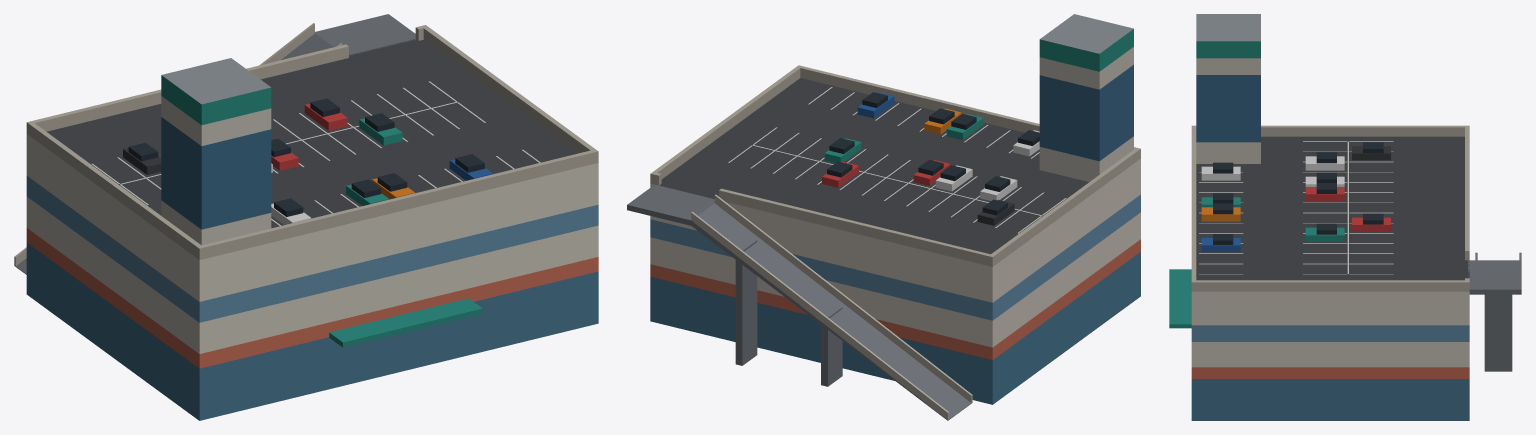
File: building_4.glb
The picture shows the model from 3 angles, left to right: view 1: azimuth 30°, elevation 25°; view 2: azimuth 150°, elevation 25°; view 3: azimuth 270°, elevation 25°; orthographic projection. The views are drawn at different scales.
Visible parts, largest first — view 1: Building; view 2: Building; view 3: Building.
Boxes of the visible parts, x1,y1,x2,y2 form: Building: [14, 14, 598, 420]; Building: [627, 14, 1140, 420]; Building: [1169, 14, 1521, 420].
Bounding box in the file's own units: 40 × 30 × 38.
